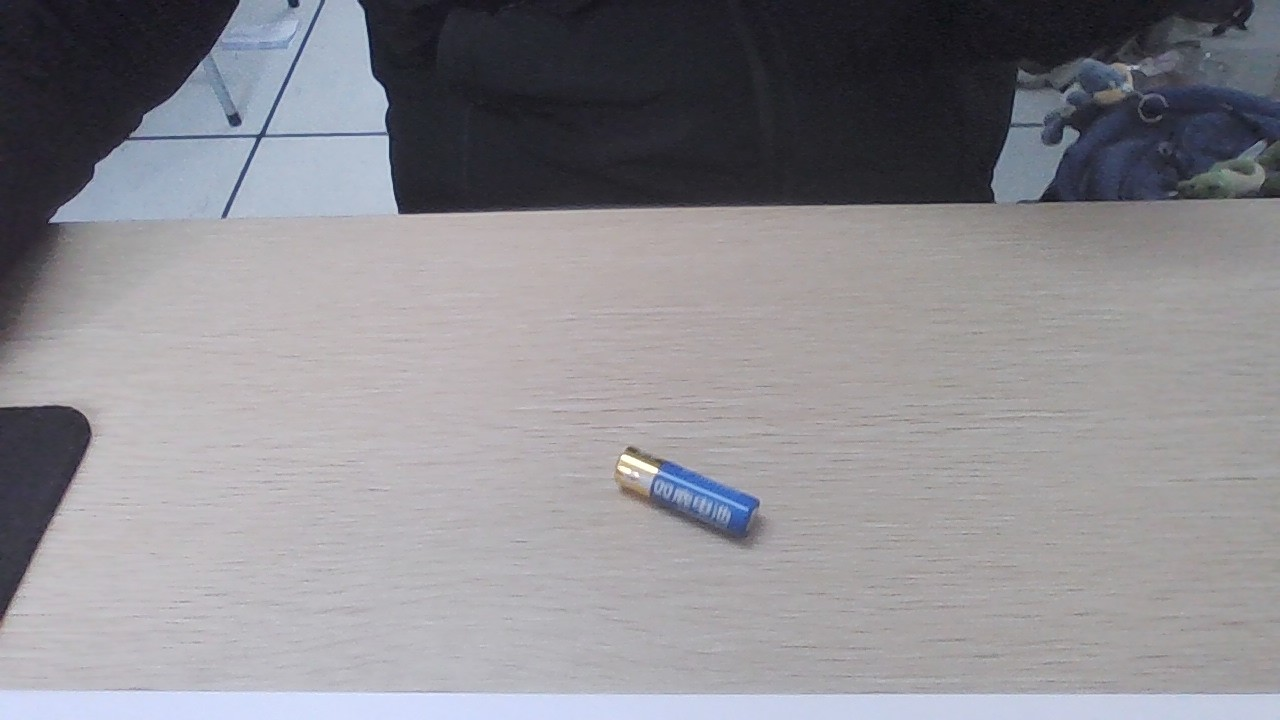YH-battery: (606, 444, 760, 537)
